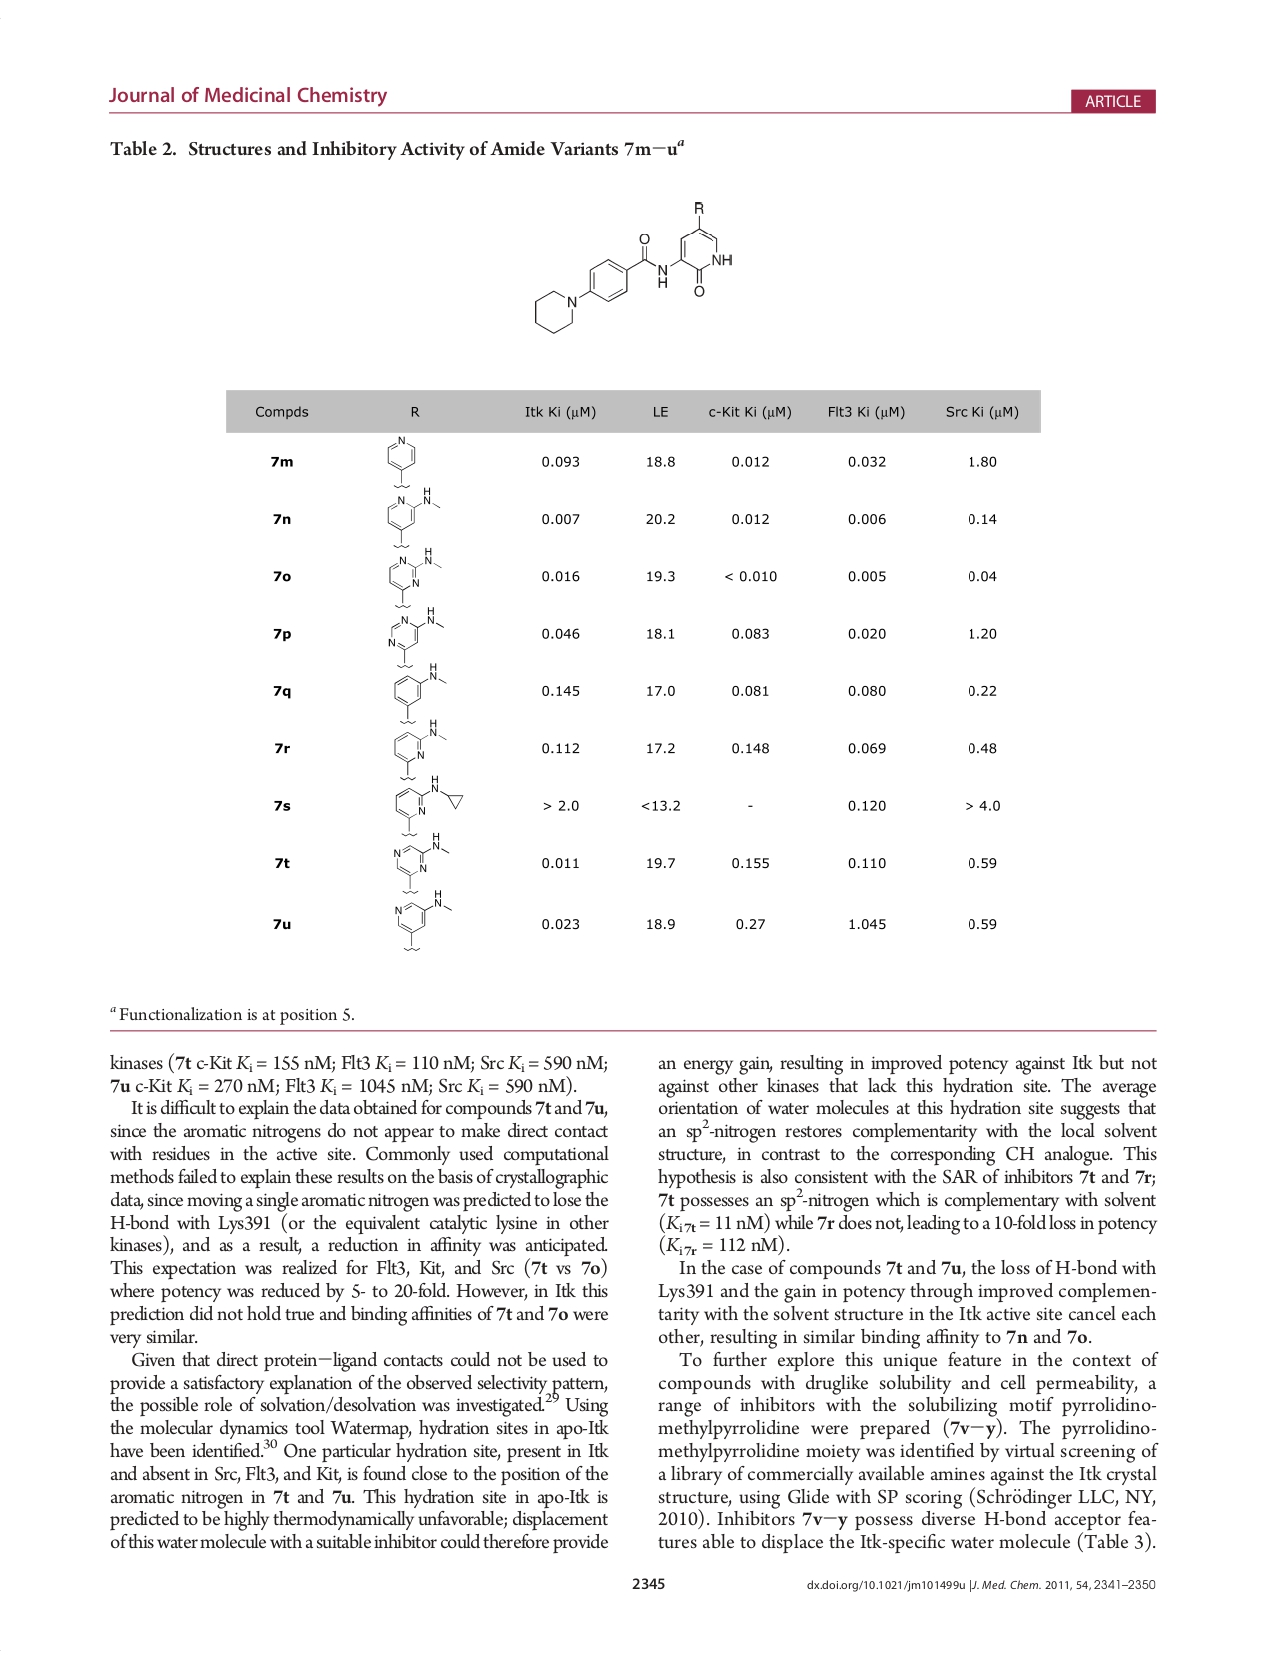exist_molecular: (531, 197, 735, 336), (394, 775, 465, 838), (386, 606, 448, 670), (394, 890, 453, 952), (386, 545, 444, 609), (394, 830, 452, 894), (384, 485, 442, 551), (391, 662, 449, 725), (392, 718, 449, 782), (382, 434, 420, 492)
